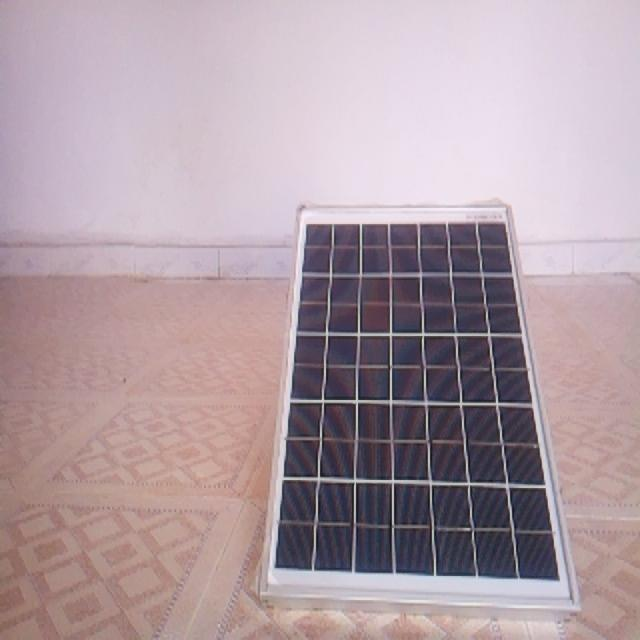Normal Solar Panel: (260, 201, 581, 620)
